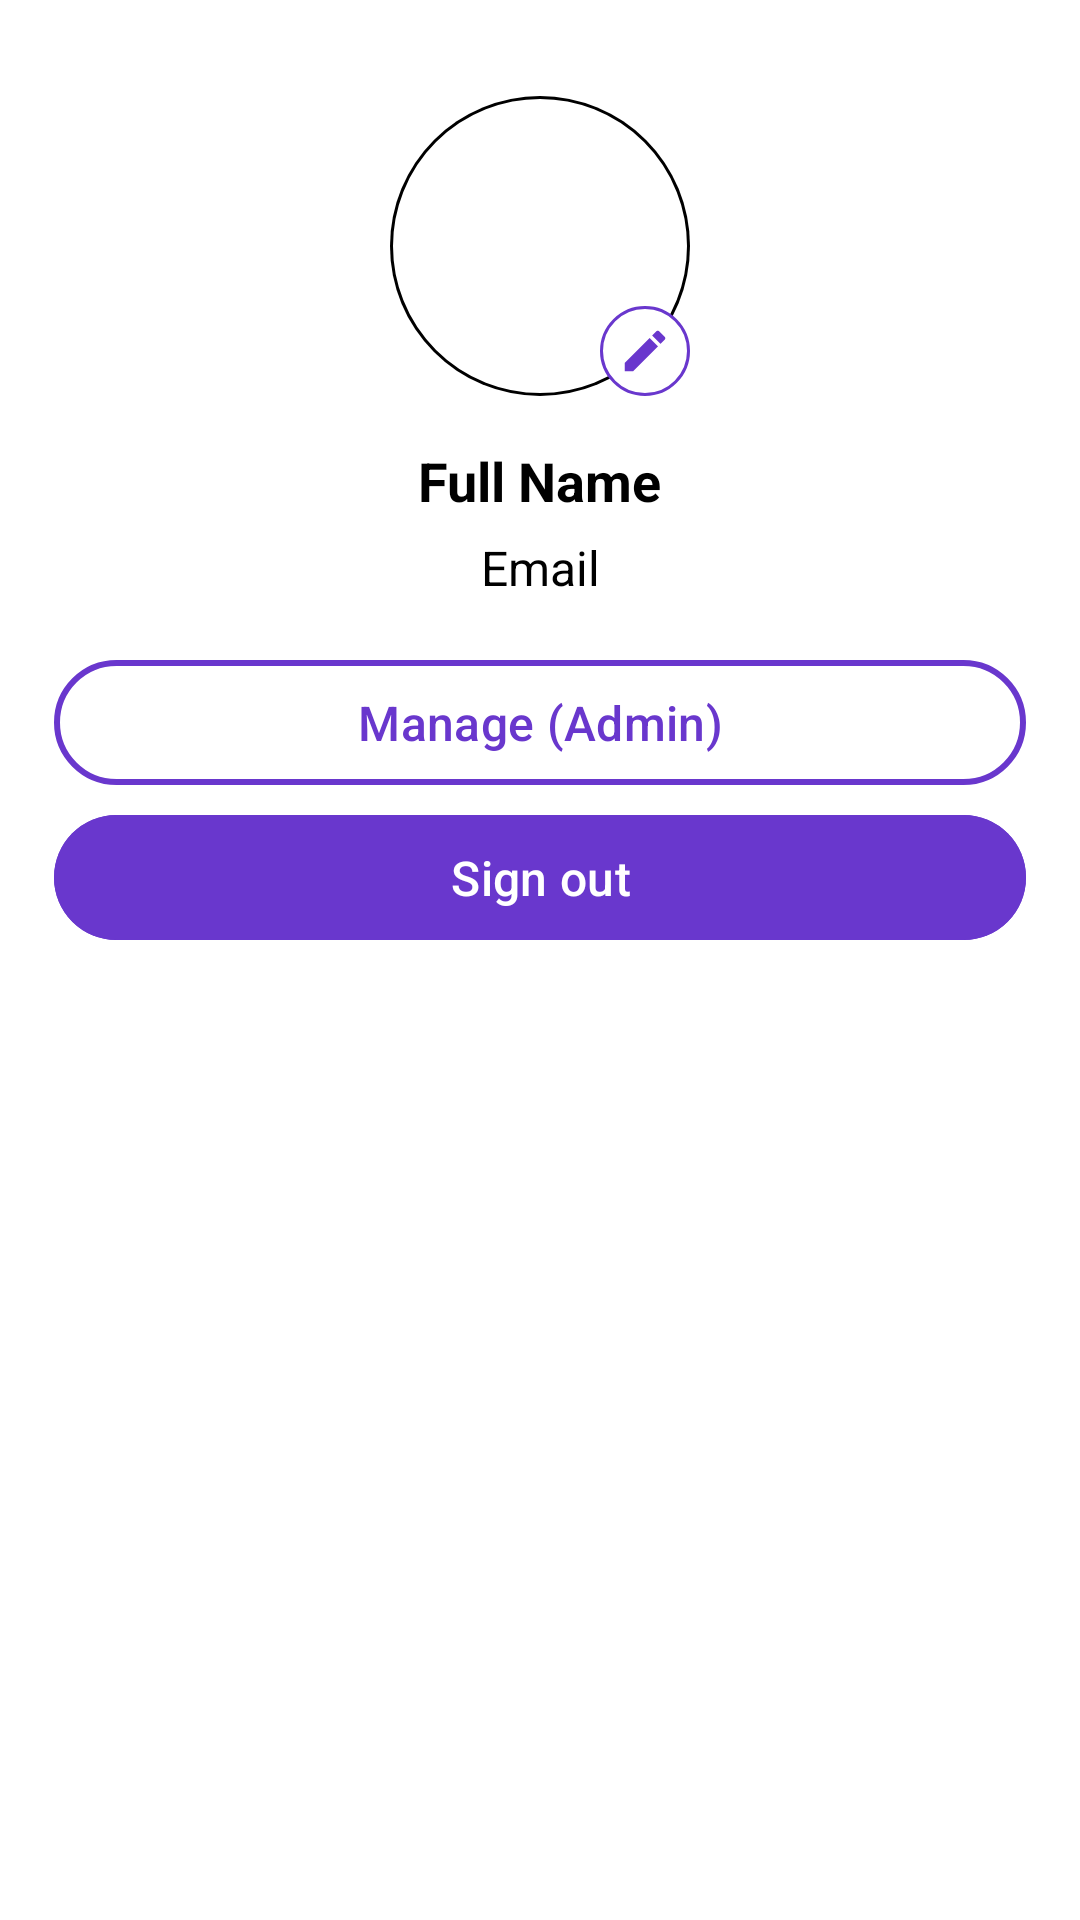

Icon bounding boxes for this 1080 × 1920 phone screenshot, format bbox=[x1, y1, x2, y2]:
edit: bbox=[600, 306, 690, 396]
